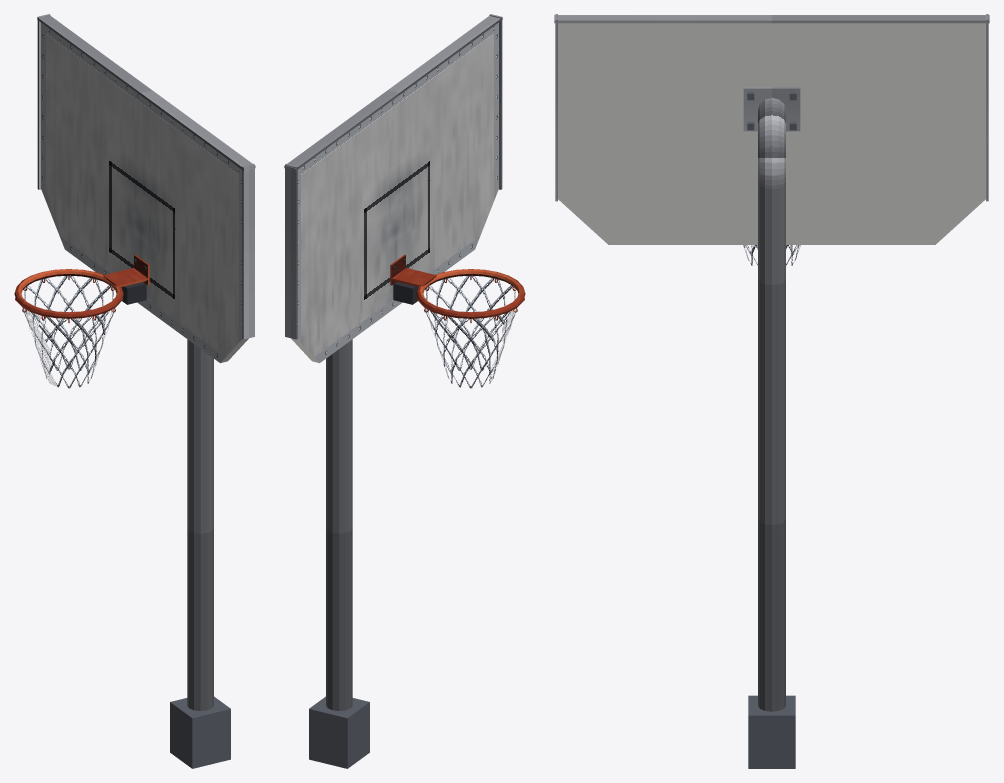
The model's file is hoop.glb.
The picture shows the model from 3 angles, left to right: view 1: azimuth 30°, elevation 25°; view 2: azimuth 150°, elevation 25°; view 3: azimuth 270°, elevation 25°; orthographic projection. The views are drawn at different scales.
Parts seen in each view (by area): view 1: Backboard, Gooseneck, PoleSleeve, Net, EdgeTop, EdgeSide0, Rim, EdgeSide2, NeckTongue, SpringBox; view 2: Backboard, Gooseneck, PoleSleeve, Net, EdgeTop, EdgeSide2, Rim, EdgeSide0, NeckTongue, SpringBox; view 3: Backboard, Gooseneck, EdgeTop, PoleSleeve, MountPlate.
Boxes of the visible parts, bbox=[...] form: Backboard: bbox=[41, 23, 248, 363]; Gooseneck: bbox=[187, 339, 213, 710]; PoleSleeve: bbox=[170, 696, 230, 768]; Net: bbox=[23, 275, 114, 388]; EdgeTop: bbox=[37, 16, 255, 170]; EdgeSide0: bbox=[242, 163, 254, 339]; Rim: bbox=[14, 269, 123, 318]; EdgeSide2: bbox=[37, 14, 50, 189]; NeckTongue: bbox=[103, 268, 149, 286]; SpringBox: bbox=[121, 282, 146, 304]; Backboard: bbox=[291, 23, 498, 363]; Gooseneck: bbox=[326, 339, 352, 710]; PoleSleeve: bbox=[309, 696, 369, 768]; Net: bbox=[425, 275, 516, 388]; EdgeTop: bbox=[284, 16, 502, 170]; EdgeSide2: bbox=[285, 163, 297, 339]; Rim: bbox=[416, 269, 525, 318]; EdgeSide0: bbox=[489, 14, 502, 189]; NeckTongue: bbox=[390, 268, 436, 286]; SpringBox: bbox=[393, 282, 418, 304]; Backboard: bbox=[558, 23, 985, 244]; Gooseneck: bbox=[758, 98, 785, 711]; EdgeTop: bbox=[554, 15, 989, 23]; PoleSleeve: bbox=[748, 695, 795, 768]; MountPlate: bbox=[743, 87, 800, 131].
Bounding box in the file's own units: 1.02 × 3.35 × 1.85.
Materials: 7 (4 with a texture image).
